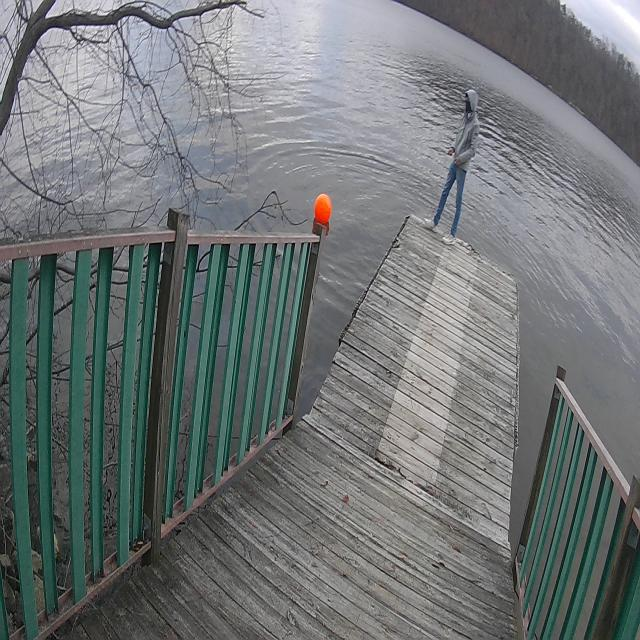Buoy: (313, 191, 332, 226)
